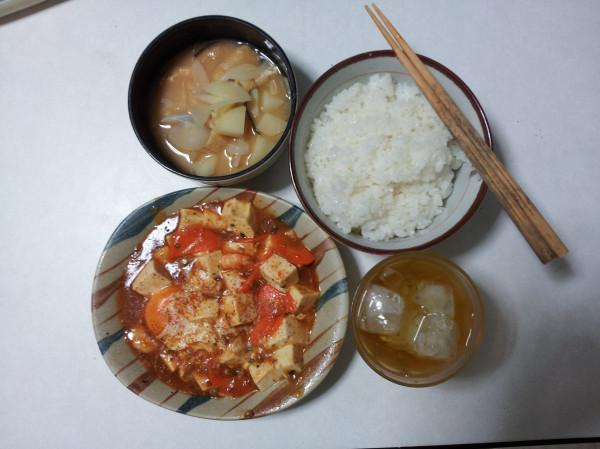plate: (288, 49, 492, 254)
rice: (305, 74, 460, 241)
